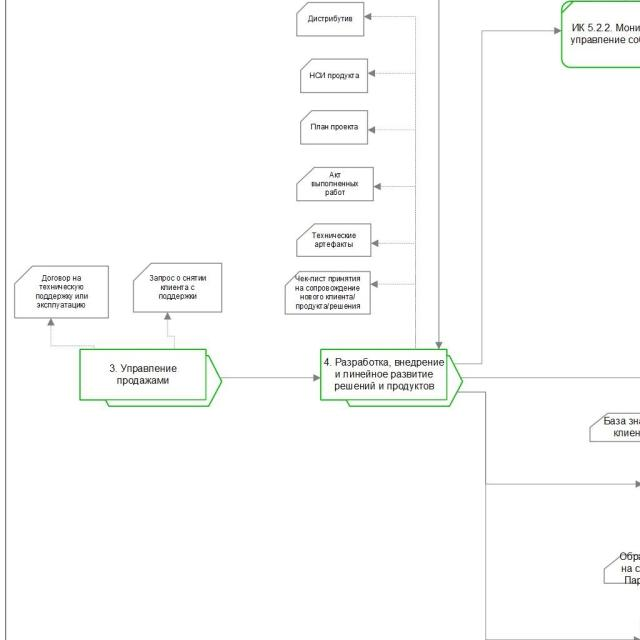arrow: (454, 26, 560, 366), (364, 12, 418, 349), (368, 67, 418, 348), (369, 124, 417, 347), (372, 182, 417, 349), (370, 238, 416, 348), (371, 279, 417, 349), (46, 318, 96, 349), (220, 375, 320, 382), (162, 311, 176, 349)
rectangle: (320, 349, 449, 402), (79, 349, 207, 401), (14, 265, 109, 318), (132, 262, 223, 314), (285, 271, 371, 315), (295, 222, 372, 258), (296, 166, 374, 201), (296, 1, 365, 37), (301, 57, 368, 94), (301, 108, 368, 145)
